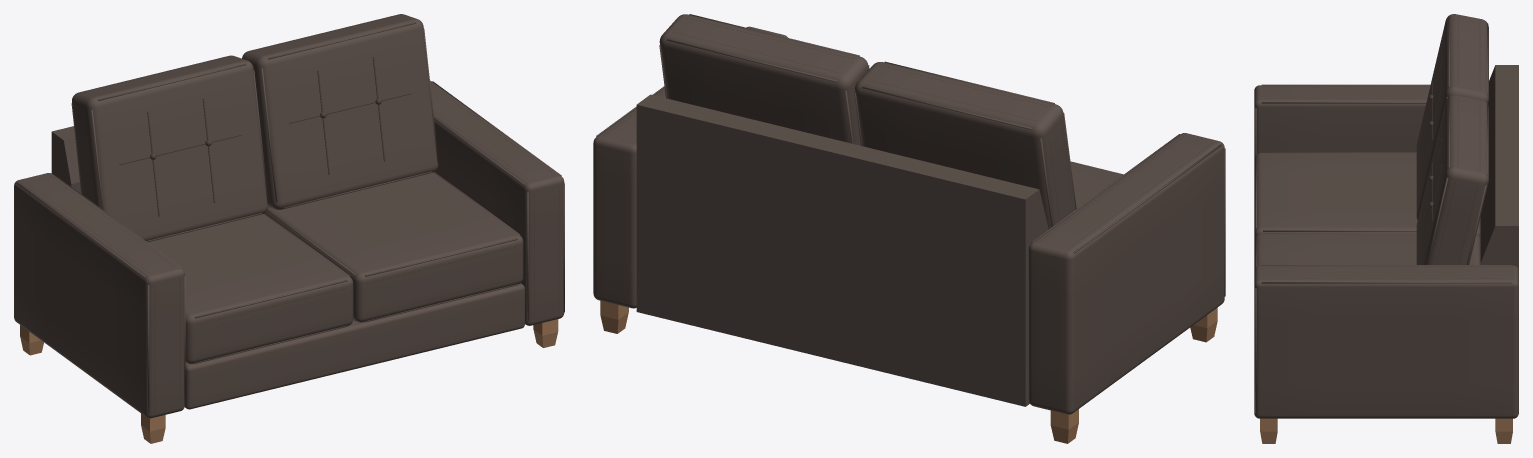
Rendered from benza_160x90.glb.
3 views of the same model, side by side, from view 1: azimuth 30°, elevation 25°; view 2: azimuth 150°, elevation 25°; view 3: azimuth 270°, elevation 25° (orthographic). The views are drawn at different scales.
Parts seen in each view (by area): view 1: p1, p2, p0; view 2: p1, p0, p2; view 3: p1, p2, p0.
Boxes of the visible parts, x1=… form: p1: x1=14, y1=14, x2=564, y2=418; p2: x1=23, y1=15, x2=559, y2=411; p0: x1=20, y1=319, x2=558, y2=443; p1: x1=593, y1=14, x2=1225, y2=414; p0: x1=600, y1=300, x2=1217, y2=443; p2: x1=603, y1=18, x2=1212, y2=248; p1: x1=1254, y1=14, x2=1518, y2=418; p2: x1=1265, y1=16, x2=1510, y2=278; p0: x1=1260, y1=418, x2=1512, y2=443.
Size of the model in its own units: 1.6 by 0.9642 by 0.9006.
Materials: 3 (2 with a texture image).
